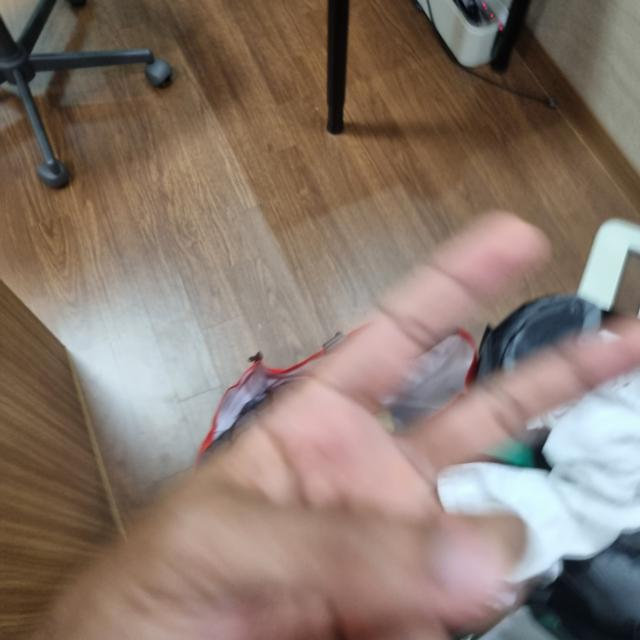Scissors: (18, 215, 640, 639)
